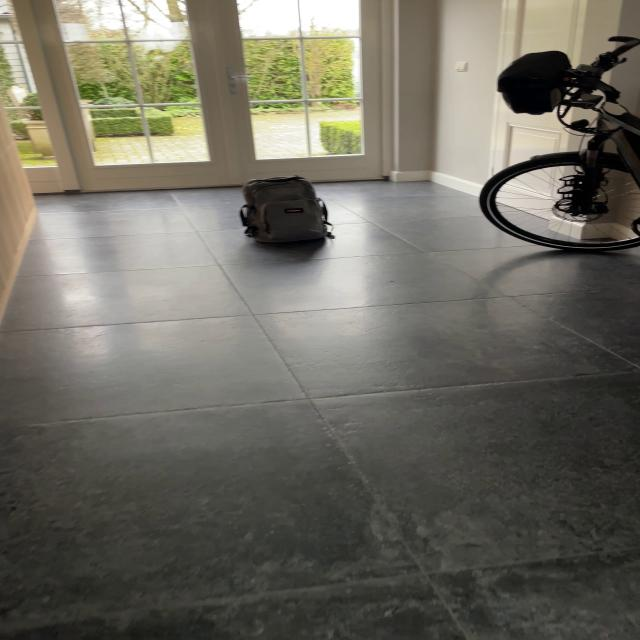backpack: (233, 173, 331, 246)
